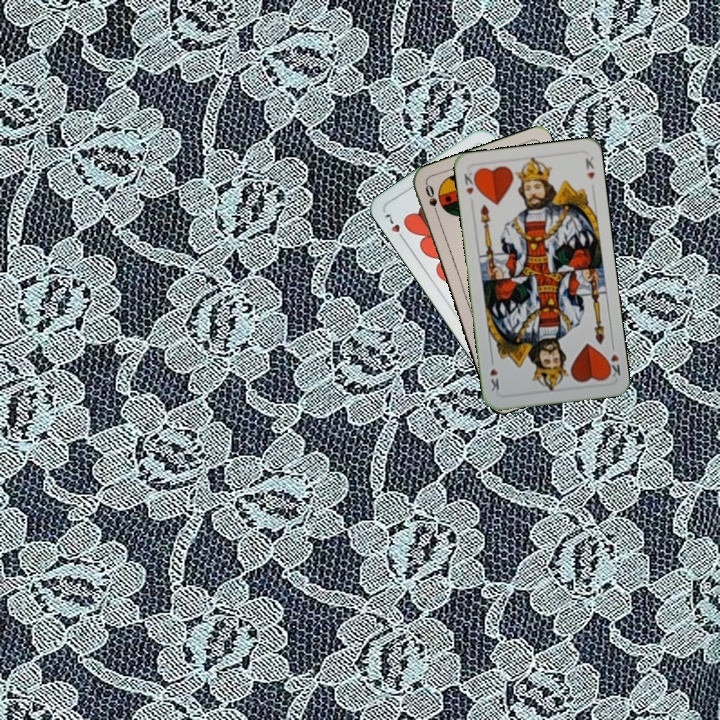H7: (380, 210, 408, 244)
HK: (602, 350, 623, 380), (460, 166, 480, 197)
SO: (421, 180, 442, 220)
